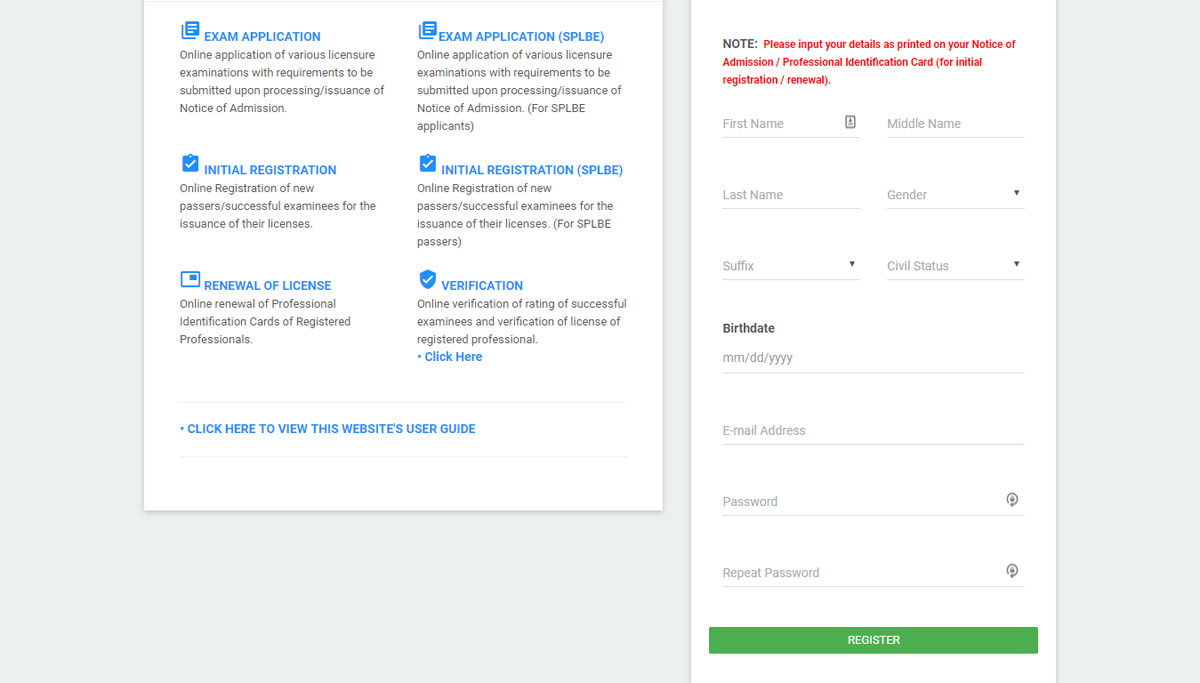button: (699, 621, 1041, 660)
dropdown: (877, 246, 1032, 287), (721, 248, 863, 281)
textbox: (705, 474, 1039, 534), (702, 546, 1046, 599), (717, 402, 1035, 454), (709, 337, 1031, 383)
